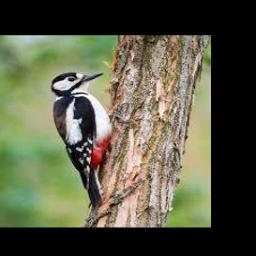Woodpecker: (51, 73, 113, 209)
